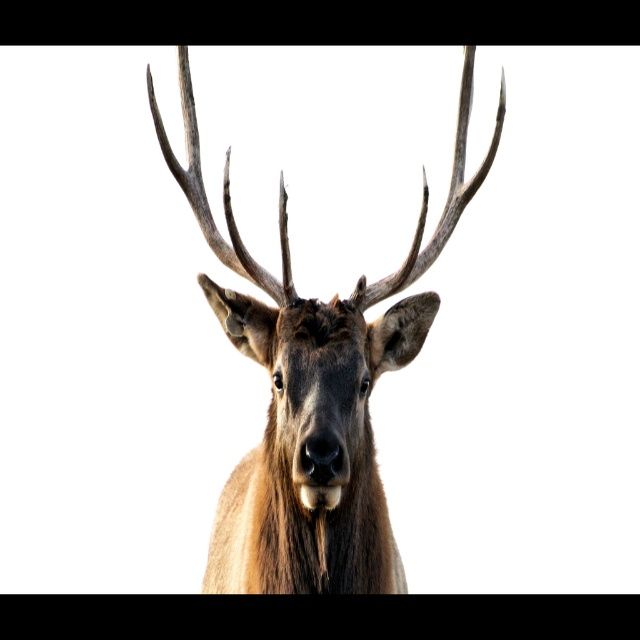Deer: (147, 44, 508, 591)
